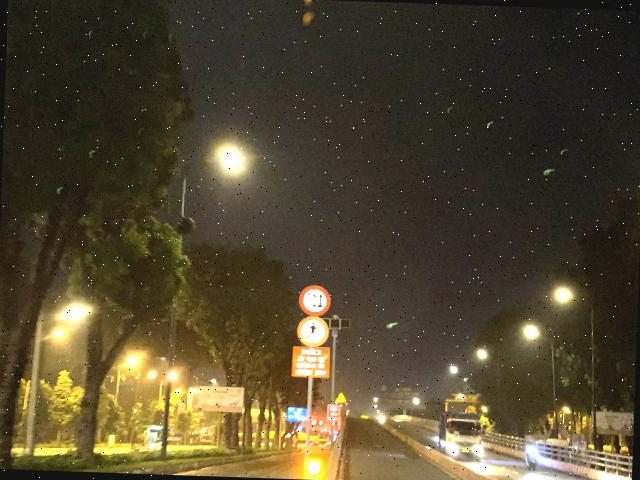cam-nguoi-di-bo: (296, 315, 330, 348)
han-che-trong-luong-xe: (298, 284, 332, 317)
